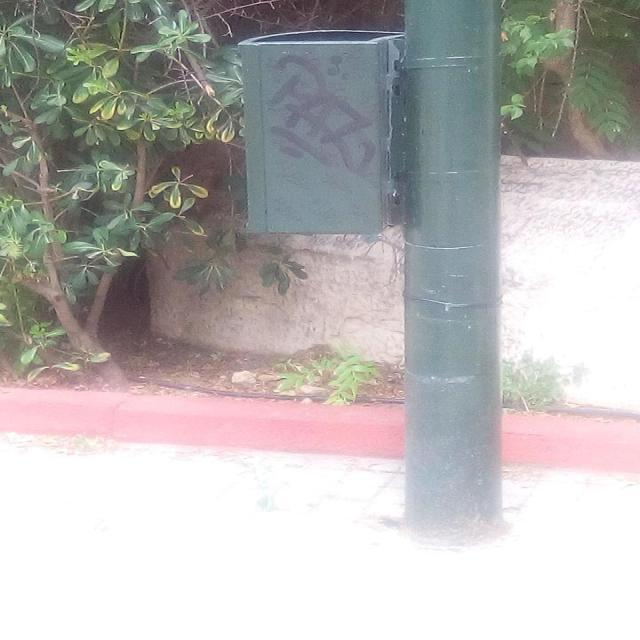nonspitting: (266, 53, 376, 171)
